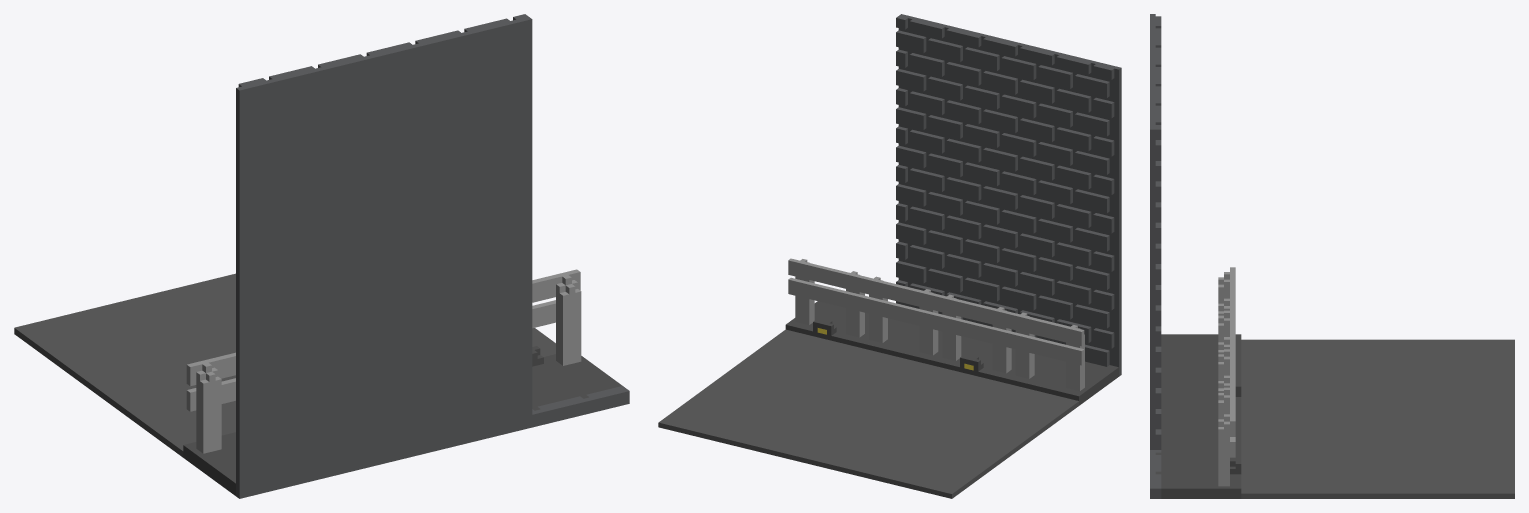
File: MapWIP_v02-50.obj
The picture shows the model from 3 angles, left to right: view 1: azimuth 30°, elevation 25°; view 2: azimuth 150°, elevation 25°; view 3: azimuth 270°, elevation 25°; orthographic projection. The views are drawn at different scales.
Size of the model in its own units: 6.4 by 6.4 by 6.4.
1 material, 1 textured.
